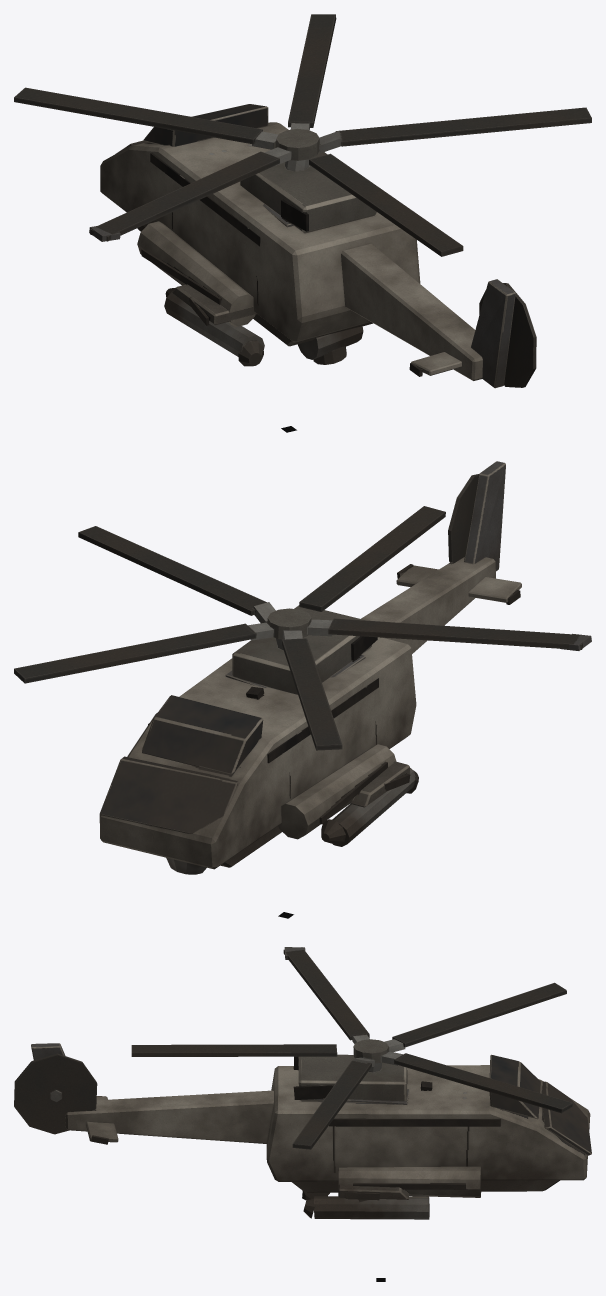
The model's file is ord_tidewatch_wreck.fbx.
3 renders of one model, top to bottom at view 1: azimuth 30°, elevation 25°; view 2: azimuth 150°, elevation 25°; view 3: azimuth 270°, elevation 25°, orthographic. The views are drawn at different scales.
Visible parts, largest first — view 1: base_bar, rotor_bar, rack_bar, tailRotor_bar; view 2: base_bar, rotor_bar, rack_bar, tailRotor_bar; view 3: base_bar, rotor_bar, tailRotor_bar, rack_bar.
Part boxes in pixels (x1,y1,x2,y2): base_bar: (100, 104, 515, 388); rotor_bar: (14, 14, 591, 256); rack_bar: (164, 284, 264, 366); tailRotor_bar: (479, 283, 536, 387); base_bar: (99, 461, 521, 874); rotor_bar: (14, 506, 591, 750); rack_bar: (321, 761, 418, 846); tailRotor_bar: (448, 474, 478, 563); base_bar: (31, 1043, 591, 1198); rotor_bar: (131, 947, 572, 1149); tailRotor_bar: (14, 1053, 97, 1134); rack_bar: (303, 1183, 429, 1219).
Size of the model in its own units: 962 by 545 by 1205.
2 materials, 2 textured.
